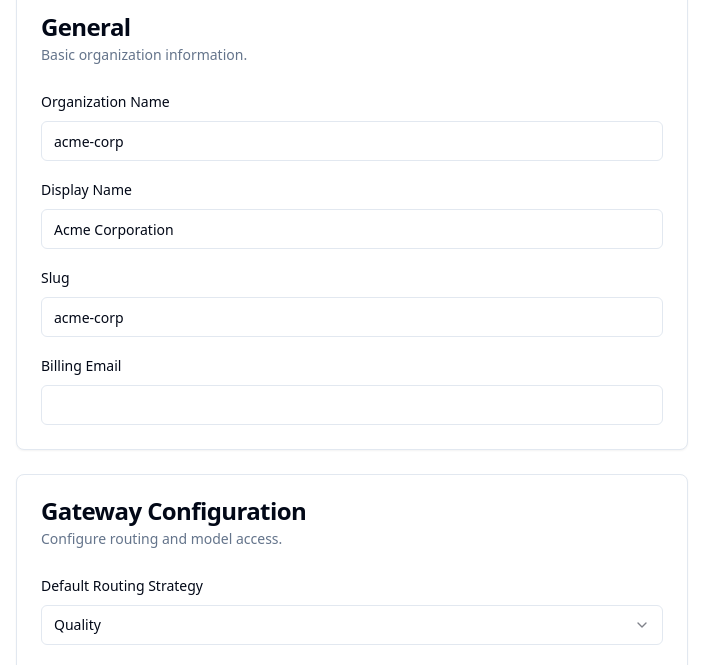
it: OrganizationSettings › validates invalid slug with uppercase letters
Expected: the field labelled "Organization Name" holds "acme-corp", x1=41 y1=121 x2=663 y2=161
Replace the text in the field labelled "Slug" with "Acme Corp" at (352, 317), box x1=41 y1=297 x2=663 y2=337
(page scrolled)
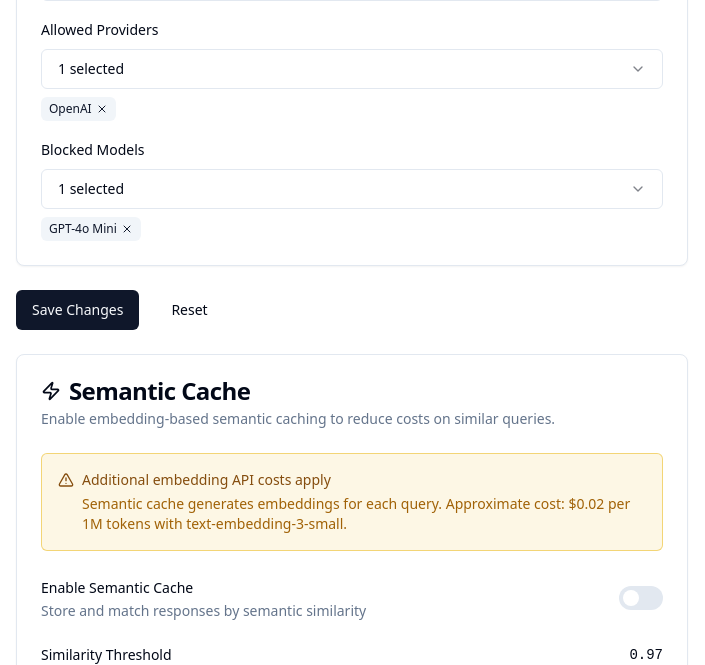
Click the button "Save Changes" at (78, 310), box x1=16 y1=290 x2=139 y2=330
(page scrolled)
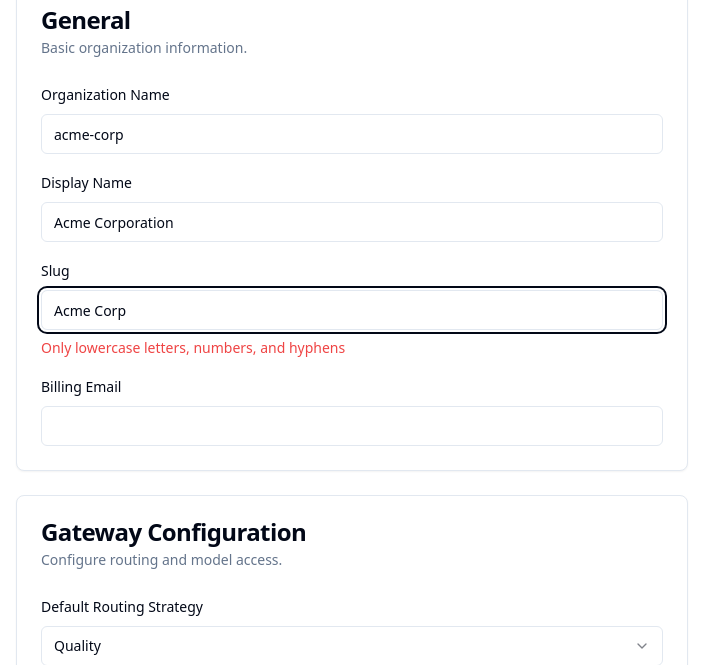
Now the text "Only lowercase letters, numbers, and hyphens" is shown, box x1=41 y1=338 x2=345 y2=357
